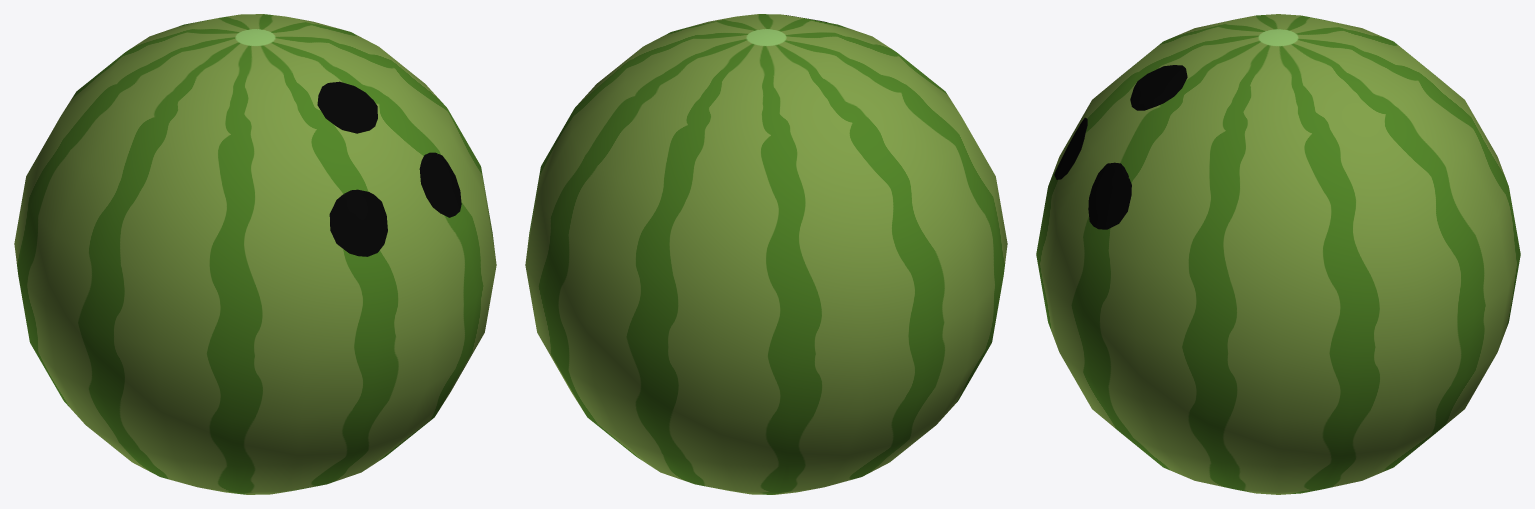
Rendered from qiu_09.FBX.
The picture shows the model from 3 angles, left to right: view 1: azimuth 30°, elevation 25°; view 2: azimuth 150°, elevation 25°; view 3: azimuth 270°, elevation 25°; orthographic projection.
Parts seen in each view (by area): view 1: qiu_09; view 2: qiu_09; view 3: qiu_09.
Boxes of the visible parts, x1,y1,x2,y2 form: qiu_09: (14, 14, 496, 494); qiu_09: (525, 14, 1007, 494); qiu_09: (1036, 14, 1520, 494).
Size of the model in its own units: 592 by 592 by 592.
